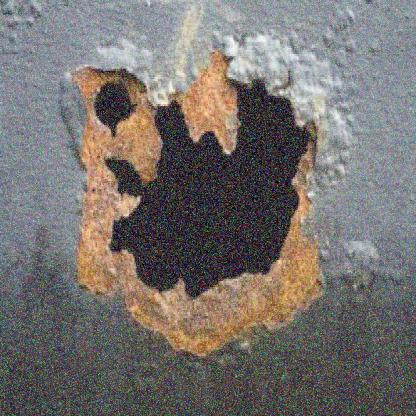burst: (65, 47, 341, 352)
